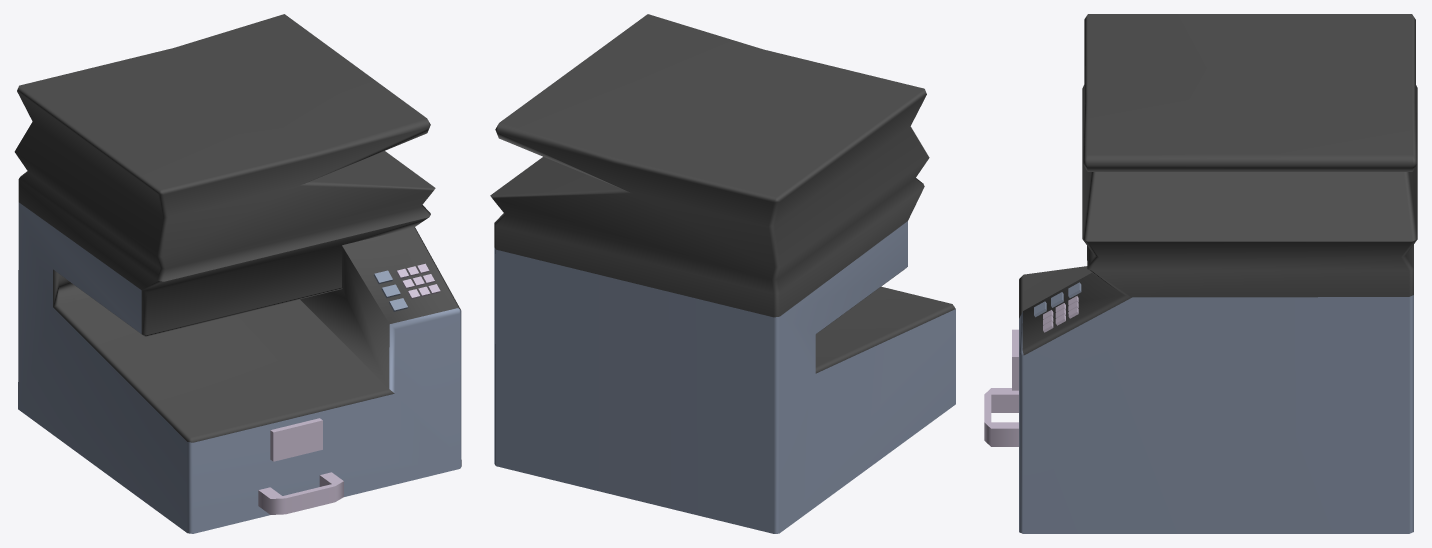
Rendered from SM_Copier.fbx.
3 renders of one model, left to right at view 1: azimuth 30°, elevation 25°; view 2: azimuth 150°, elevation 25°; view 3: azimuth 270°, elevation 25°, orthographic. The views are drawn at different scales.
Parts seen in each view (by area): view 1: SM_Copier; view 2: SM_Copier; view 3: SM_Copier.
Boxes of the visible parts, x1,y1,x2,y2 form: SM_Copier: (14, 14, 461, 533); SM_Copier: (490, 14, 955, 533); SM_Copier: (984, 14, 1417, 533).
Bounding box in the file's own units: 42.75 × 48.26 × 50.43.
